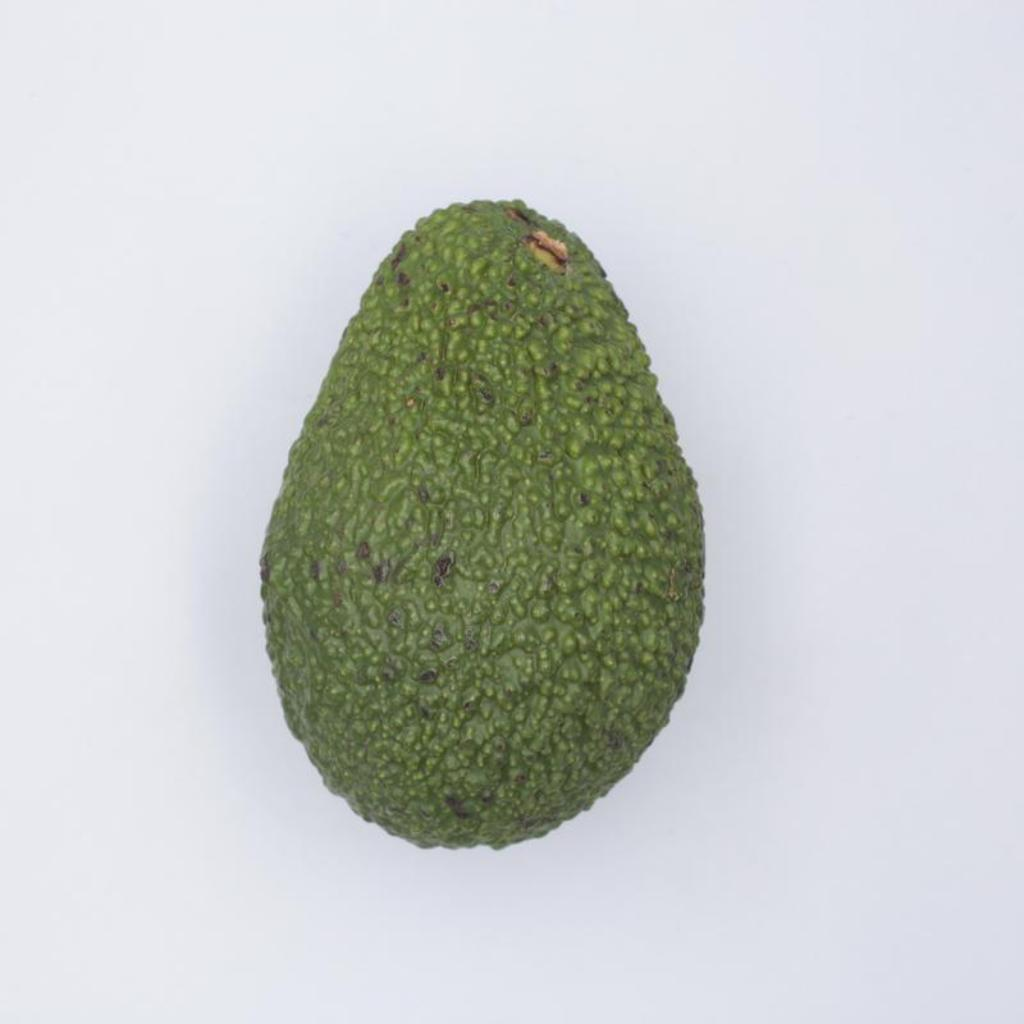healthy: (260, 200, 703, 846)
